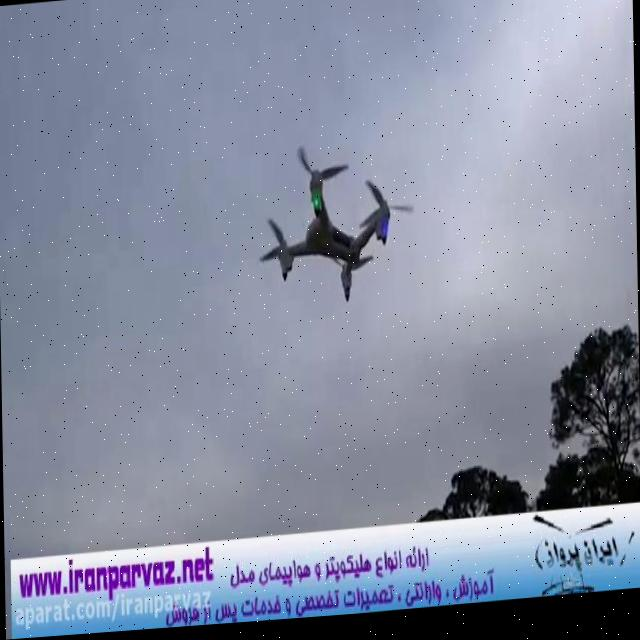drone: (252, 136, 418, 315)
